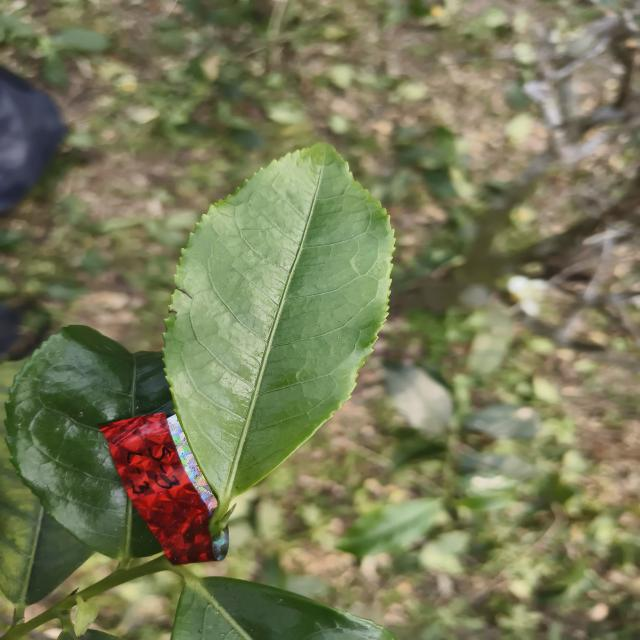Leaf: (164, 143, 394, 514), (6, 325, 174, 558), (0, 422, 94, 608), (171, 577, 394, 640), (337, 498, 444, 558), (385, 363, 453, 437), (457, 493, 514, 511)
